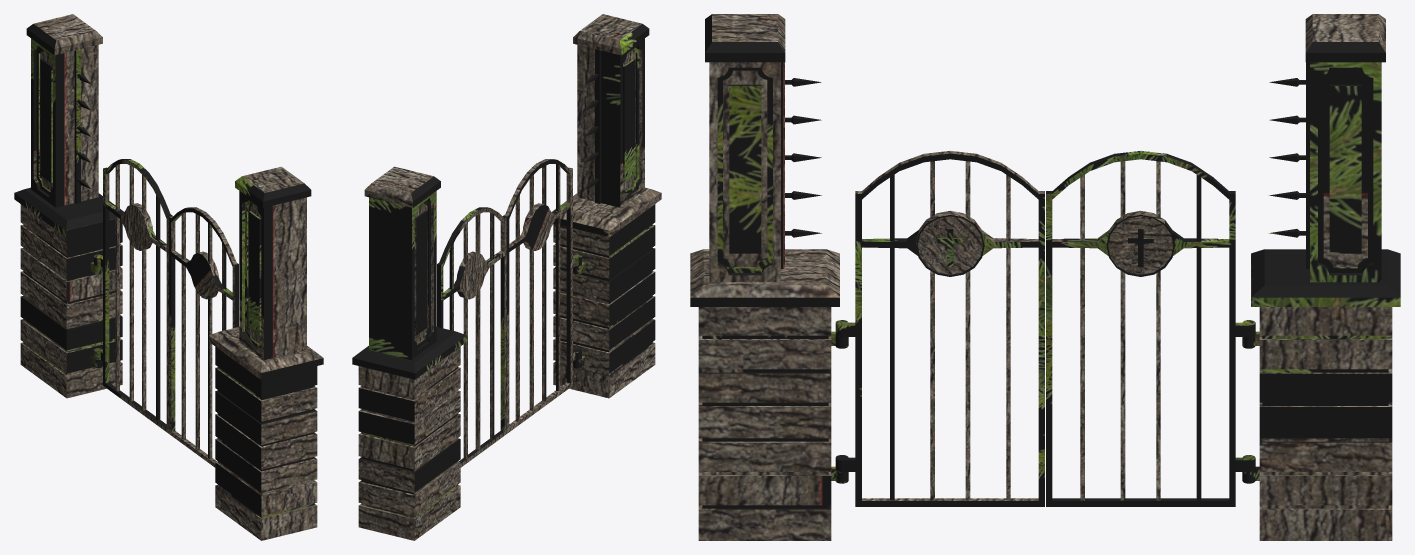
The model's file is puerta.gltf.
3 renders of one model, left to right at view 1: azimuth 30°, elevation 25°; view 2: azimuth 150°, elevation 25°; view 3: azimuth 270°, elevation 25°, orthographic. The views are drawn at different scales.
Parts seen in each view (by area): view 1: Main_Gates2, Main_Gates2_met_0; view 2: Main_Gates2, Main_Gates2_met_0; view 3: Main_Gates2, Main_Gates2_met_0.
Part boxes in pixels (left/top/right/bottom): Main_Gates2: left=14, top=14, right=323, bottom=540; Main_Gates2_met_0: left=74, top=49, right=238, bottom=467; Main_Gates2: left=352, top=14, right=661, bottom=540; Main_Gates2_met_0: left=437, top=49, right=601, bottom=467; Main_Gates2: left=690, top=14, right=1400, bottom=540; Main_Gates2_met_0: left=781, top=62, right=1309, bottom=506.
Size of the model in its own units: 0.7113 by 3.7 by 4.83.
